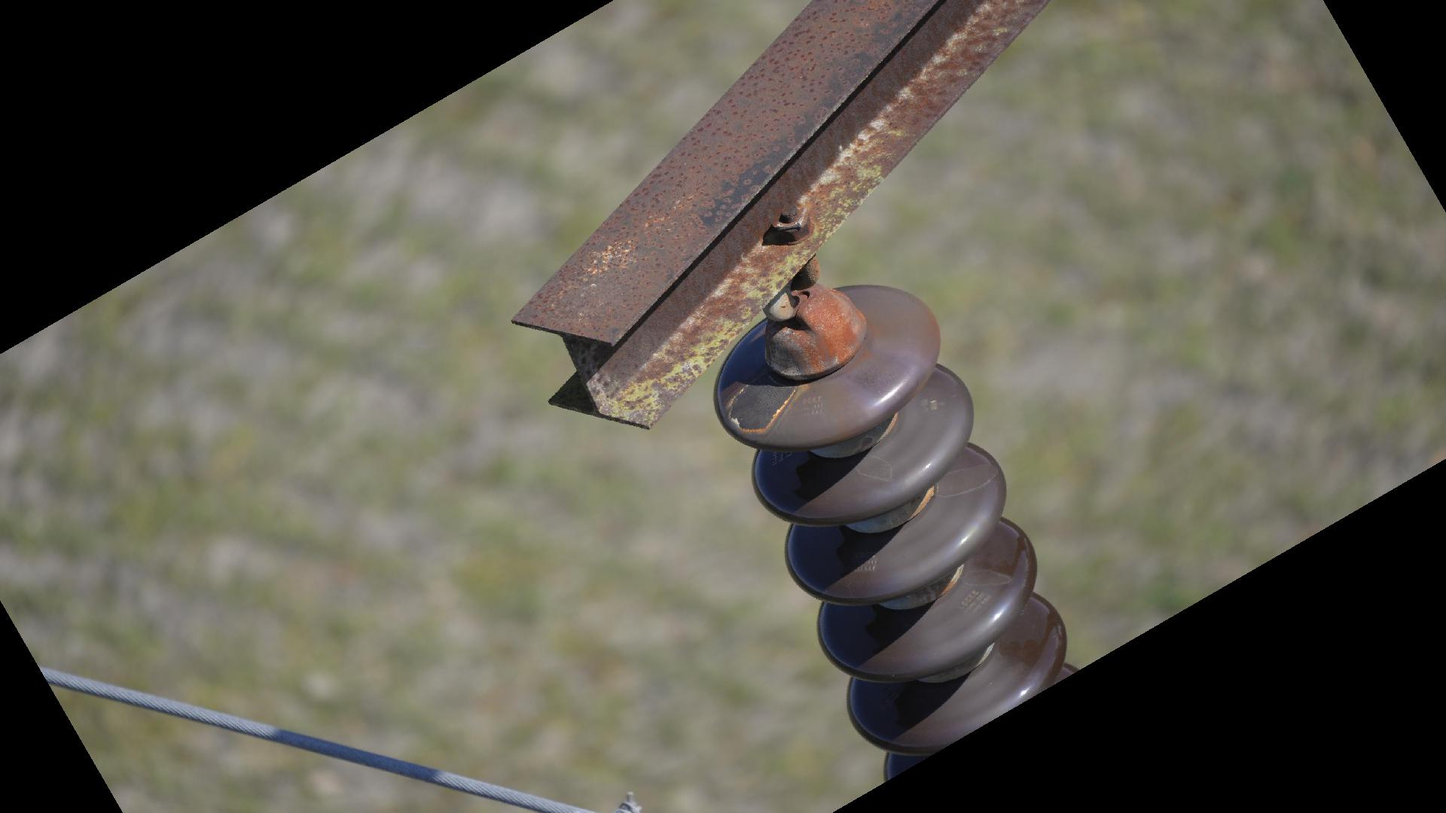insulator: (704, 273, 1088, 787)
insulator_flashover: (725, 370, 798, 436)
